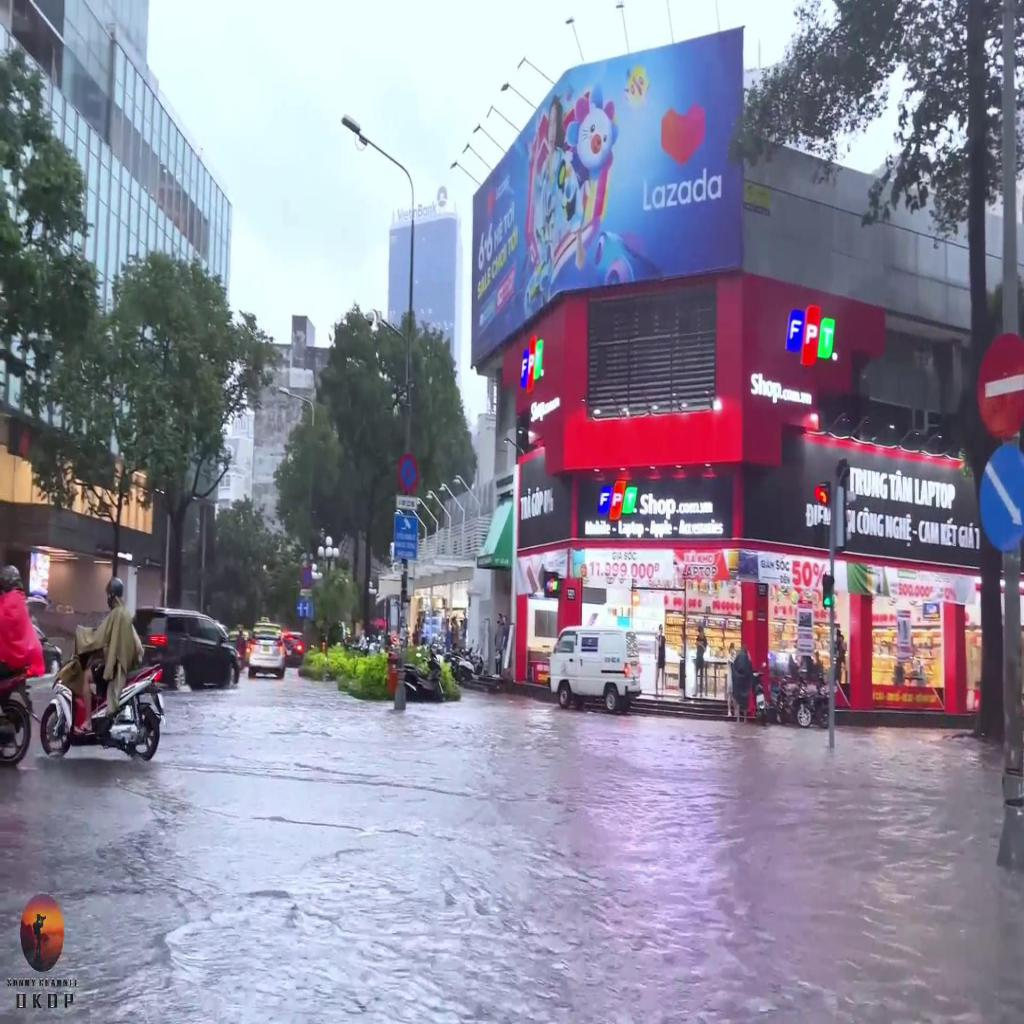cam_dung_xe_va_do_xe: (395, 451, 421, 496)
khac: (393, 515, 418, 563), (396, 496, 416, 511)
